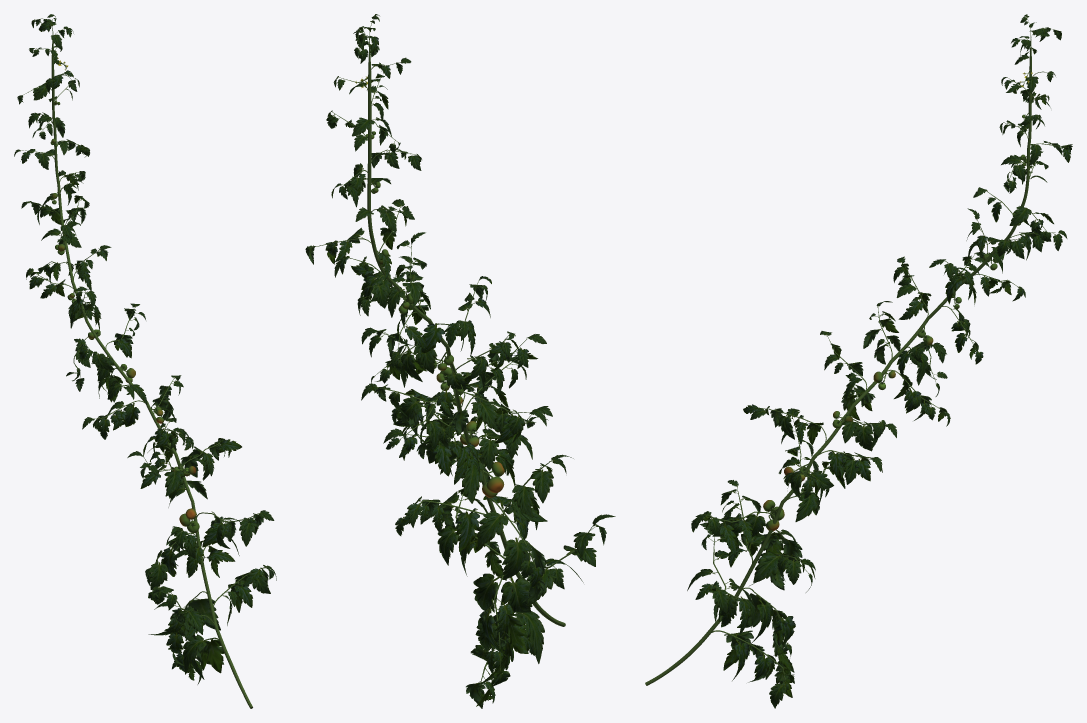
The model's file is tomato_025.glb.
3 views of the same model, side by side, from view 1: azimuth 30°, elevation 25°; view 2: azimuth 150°, elevation 25°; view 3: azimuth 270°, elevation 25° (orthographic). The views are drawn at different scales.
Visible parts, largest first — view 1: tomato_025; view 2: tomato_025; view 3: tomato_025.
Boxes of the visible parts, bbox=[...] form: tomato_025: bbox=[14, 14, 276, 708]; tomato_025: bbox=[305, 14, 615, 708]; tomato_025: bbox=[645, 14, 1072, 708].
Bounding box in the file's own units: 0.7234 × 3.12 × 1.79.
Materials: 16 (15 with a texture image).
